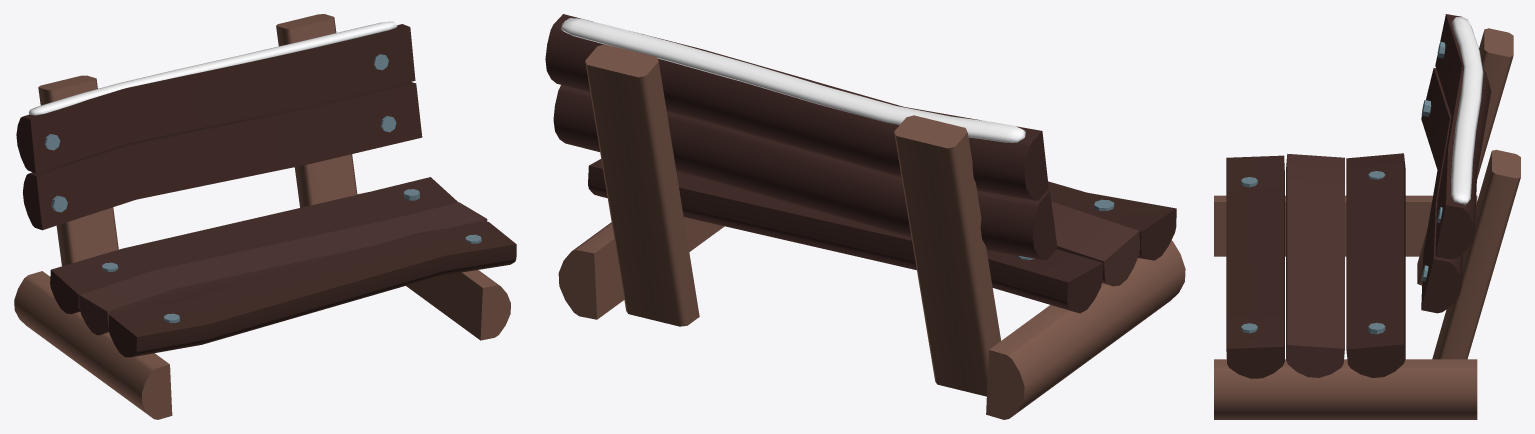
Rendered from wooden-bench-02.glb.
3 views of the same model, side by side, from view 1: azimuth 30°, elevation 25°; view 2: azimuth 150°, elevation 25°; view 3: azimuth 270°, elevation 25° (orthographic). The views are drawn at different scales.
Parts seen in each view (by area): view 1: Wooden bench 02; view 2: Wooden bench 02; view 3: Wooden bench 02.
Boxes of the visible parts, box(x1,y1,x2,y2) form: Wooden bench 02: box(14, 14, 516, 419); Wooden bench 02: box(545, 14, 1185, 419); Wooden bench 02: box(1214, 14, 1520, 419).
Size of the model in its own units: 1.05 by 0.6014 by 0.7127.
1 material, 1 textured.
